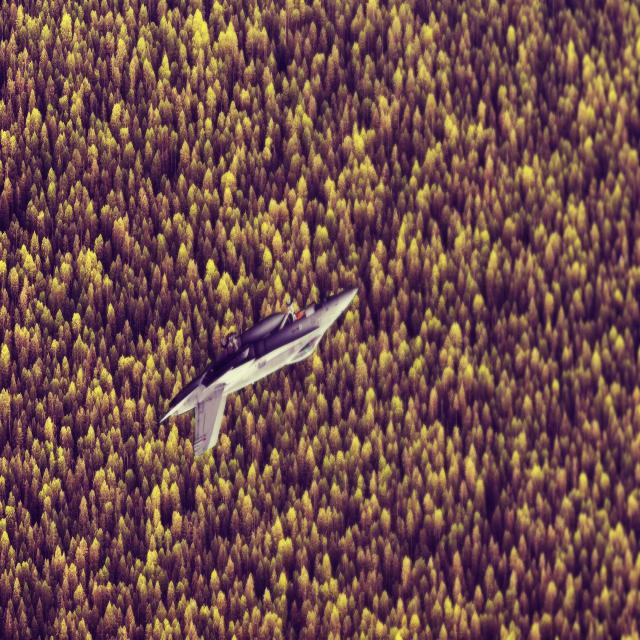airplane: (159, 284, 358, 458)
